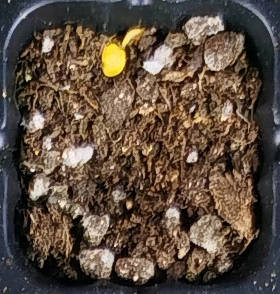chilli seed: (100, 43, 127, 78), (118, 25, 148, 49)
